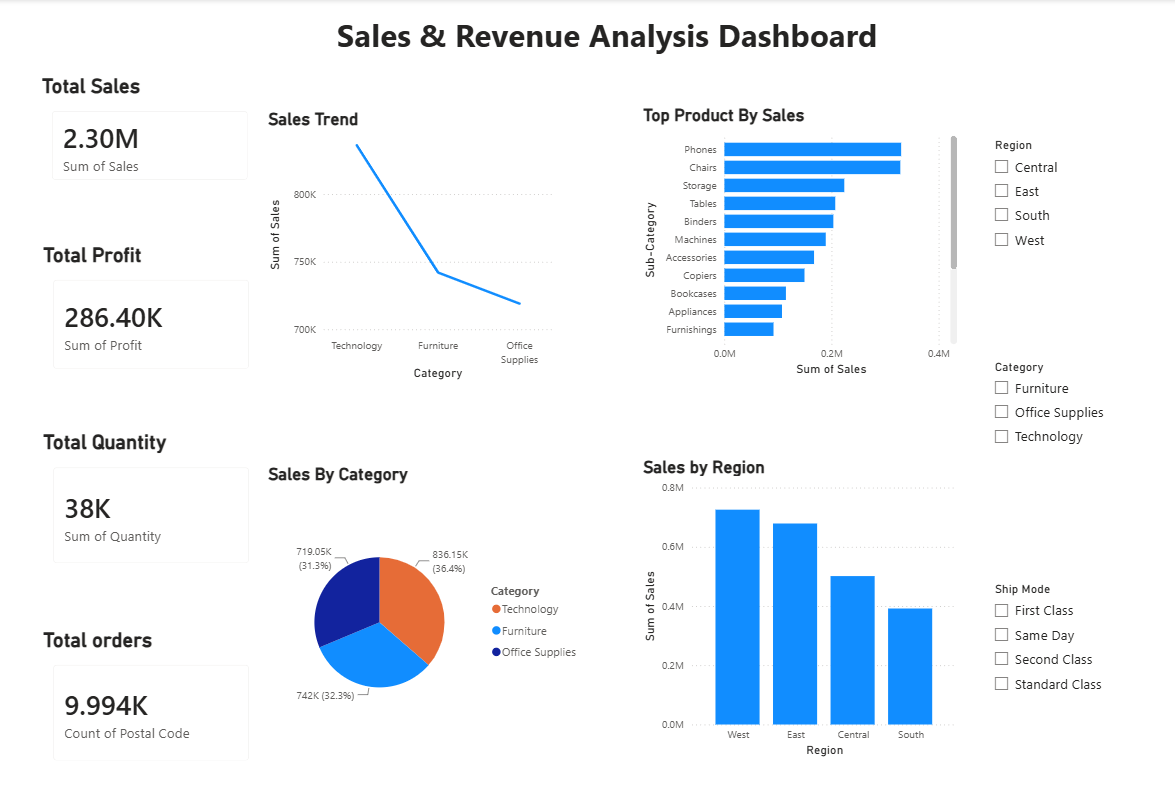

The dashboard page shown, as its layout file describes it:
{"tool":"powerbi","page":{"name":"Page 1","canvas":[1400,950],"ordinal":0},"visuals":[{"type":"textbox","box":[127.9,11.9,1191.2,61],"z":0},{"type":"cardVisual","title":"Total Sales","fields":{"Data":["Sum(SampleSuperstore.Sales)"]},"box":[45.4,89.2,267.7,144],"z":1},{"type":"cardVisual","title":"Total Profit","fields":{"Data":["Sum(SampleSuperstore.Profit)"]},"box":[47,289.6,267.7,167.5],"z":2},{"type":"cardVisual","title":"Total Quantity","fields":{"Data":["Sum(SampleSuperstore.Quantity)"]},"box":[47,513.5,267.7,175.3],"z":3},{"type":"cardVisual","title":"Total orders","fields":{"Data":["CountNonNull(SampleSuperstore.Postal Code)"]},"box":[47,748.3,267.7,175.3],"z":4},{"type":"lineChart","title":"Sales Trend","fields":{"Category":["SampleSuperstore.Category"],"Y":["Sum(SampleSuperstore.Sales)"]},"box":[315.3,130.9,353.9,327.2],"z":5},{"type":"clusteredBarChart","title":"Top Product By Sales","fields":{"Category":["SampleSuperstore.Sub-Category"],"Y":["Sum(SampleSuperstore.Sales)"]},"box":[761.4,126.4,383.7,327.2],"z":6},{"type":"pieChart","title":"Sales By Category","fields":{"Category":["SampleSuperstore.Category"],"Y":["Sum(SampleSuperstore.Sales)"]},"box":[315.3,553.2,385.2,353.9],"z":7},{"type":"clusteredColumnChart","title":"Sales by Region","fields":{"Category":["SampleSuperstore.Region"],"Y":["Sum(SampleSuperstore.Sales)"]},"box":[761.4,544.3,383.7,362.9],"z":8},{"type":"slicer","fields":{"Values":["SampleSuperstore.Region"]},"box":[1171.9,160.6,202.3,168.1],"z":9},{"type":"slicer","fields":{"Values":["SampleSuperstore.Category"]},"box":[1171.9,423.8,202.3,178.5],"z":10},{"type":"slicer","fields":{"Values":["SampleSuperstore.Ship Mode"]},"box":[1171.9,688.6,202.3,178.5],"z":11}]}

Visuals, with their boxes in screenshot pixels (x1, y1, x2, y2), scaled from the page's 1400x950 canvas onto the 1175x796 screenshot:
textbox: 107:10:1107:61
"Total Sales" cardVisual: 38:75:263:195
"Total Profit" cardVisual: 39:243:264:383
"Total Quantity" cardVisual: 39:430:264:577
"Total orders" cardVisual: 39:627:264:774
"Sales Trend" lineChart: 265:110:562:384
"Top Product By Sales" clusteredBarChart: 639:106:961:380
"Sales By Category" pieChart: 265:464:588:760
"Sales by Region" clusteredColumnChart: 639:456:961:760
slicer - SampleSuperstore.Region: 984:135:1153:275
slicer - SampleSuperstore.Category: 984:355:1153:505
slicer - SampleSuperstore.Ship Mode: 984:577:1153:727
